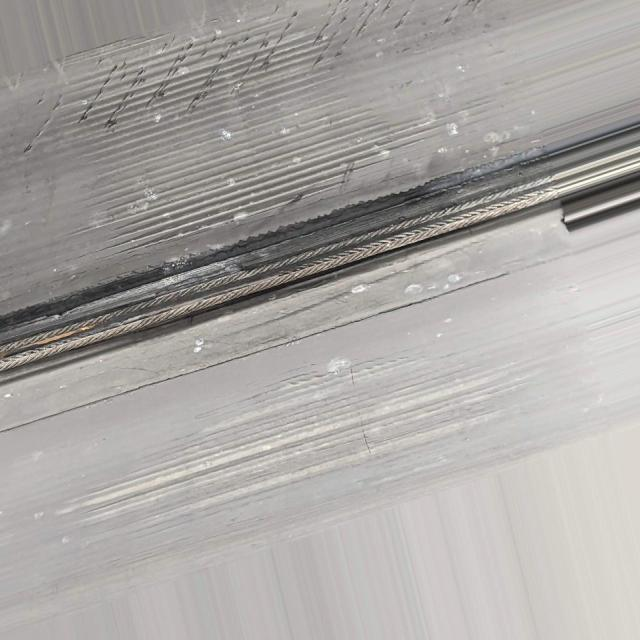Tear: (0, 0, 491, 173)
impact damage: (0, 148, 562, 385), (104, 100, 462, 255)
